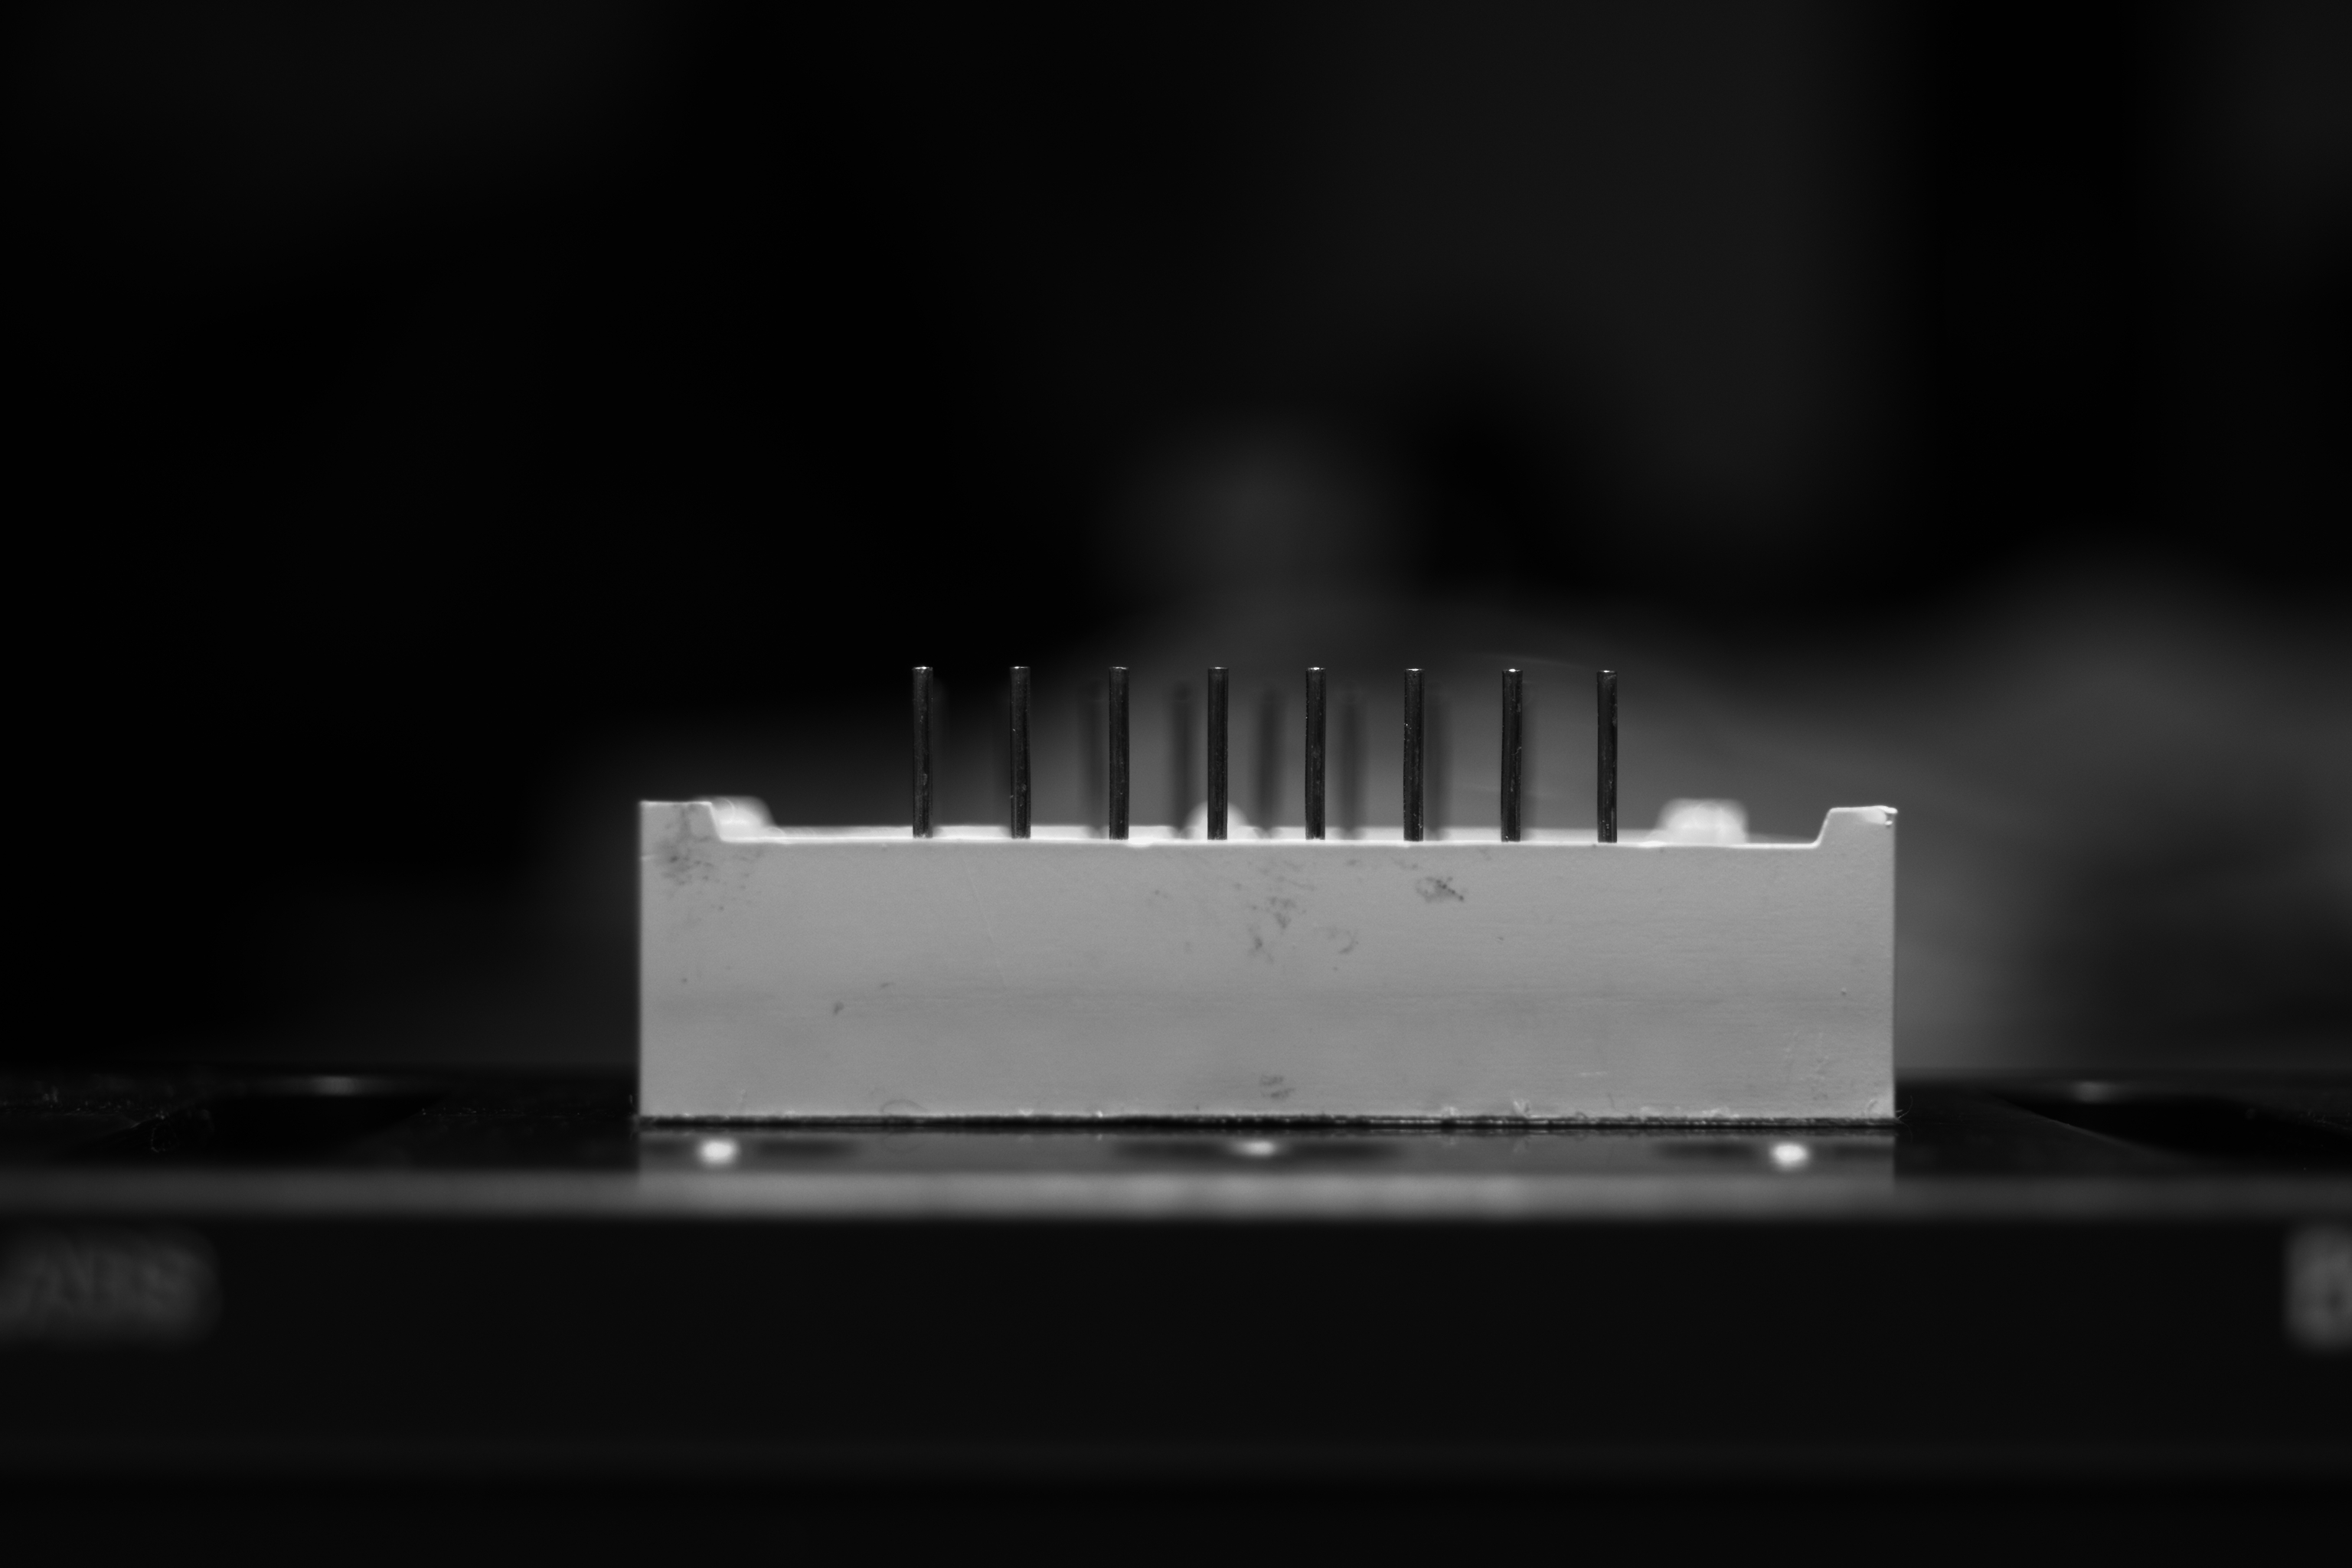glue: (1507, 1095, 1536, 1116), (1437, 1099, 1465, 1118), (733, 1085, 749, 1109), (878, 842, 891, 852), (1839, 985, 1848, 996)
pin_glue: (1302, 735, 1330, 817)
